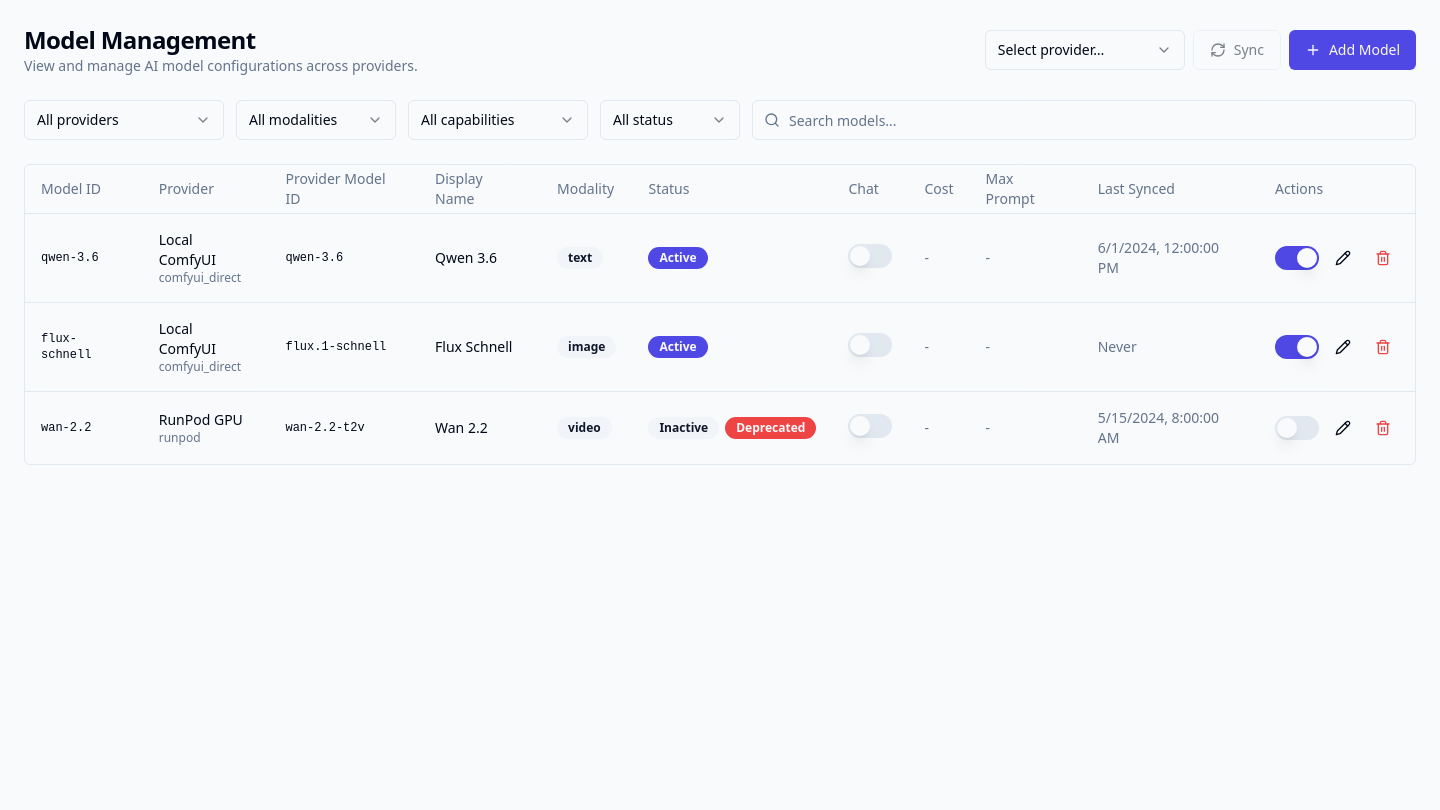
Test: ModelManagement Page › edit modal opens with pre-filled data
This screenshot has width=1440, height=810.
Expected: the text "Qwen 3.6" is shown, [435,248,497,266]
Step 1. Click the button named "Edit model" in the row of "Qwen 3.6" → (1343, 258), box [1327,242,1359,274]
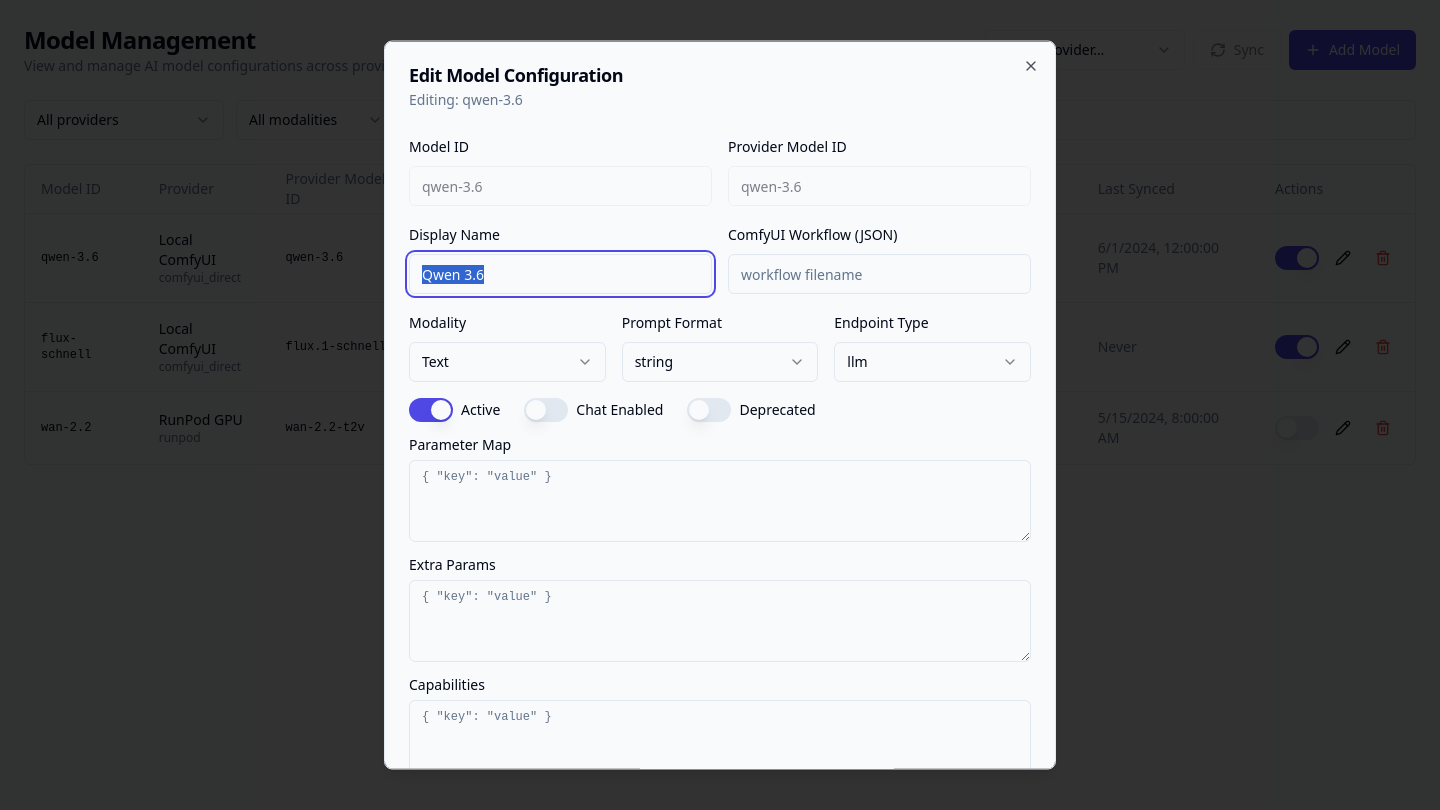
Expected: the heading "Edit Model Configuration" is shown, [409,62,623,86]
Expected: the text "Editing: qwen-3.6" is shown, [409,90,523,108]
Expected: the field showing "Qwen 3.6" is enabled, [409,254,712,294]
